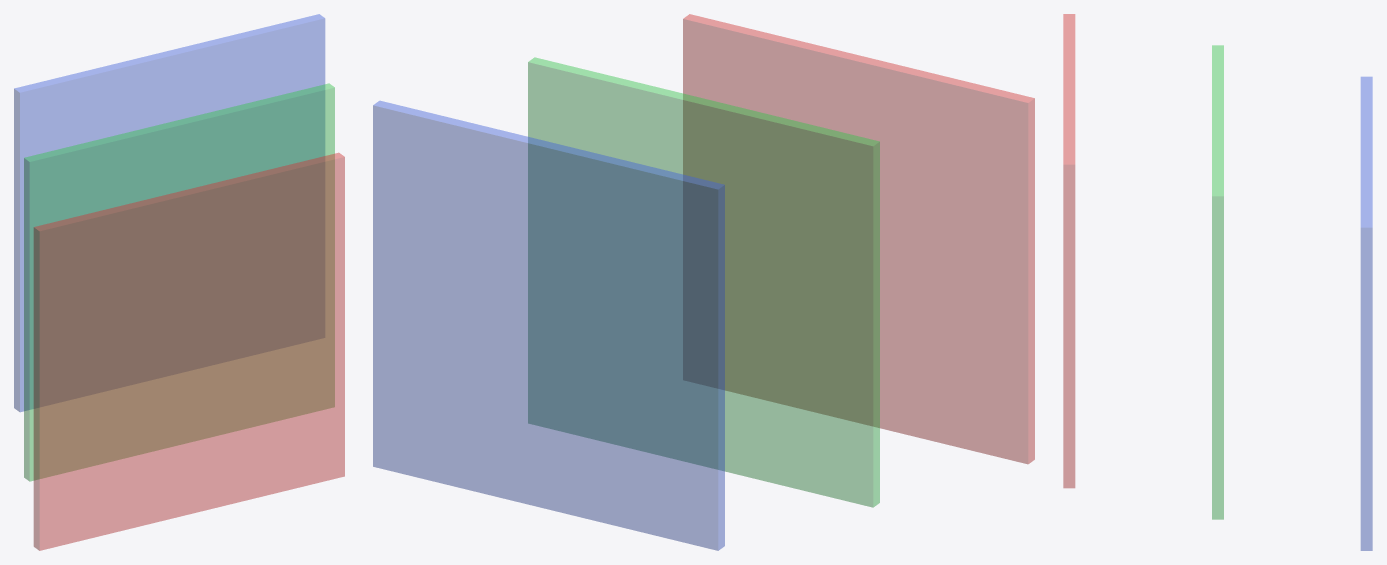
File: glass.gltf
3 views of the same model, side by side, from view 1: azimuth 30°, elevation 25°; view 2: azimuth 150°, elevation 25°; view 3: azimuth 270°, elevation 25° (orthographic). The views are drawn at different scales.
Visible parts, largest first — view 1: Red, Green, Blue; view 2: Blue, Green, Red; view 3: Blue, Red, Green.
Part boxes in pixels (left/top/right/bottom): Red: left=33, top=152, right=344, bottom=550; Green: left=24, top=83, right=334, bottom=481; Blue: left=14, top=14, right=325, bottom=412; Blue: left=373, top=101, right=724, bottom=550; Green: left=528, top=57, right=879, bottom=507; Red: left=683, top=14, right=1034, bottom=464; Blue: left=1360, top=76, right=1372, bottom=550; Red: left=1063, top=14, right=1075, bottom=488; Green: left=1212, top=45, right=1223, bottom=519.
Size of the model in its own units: 1.7 by 1.2 by 1.04.
